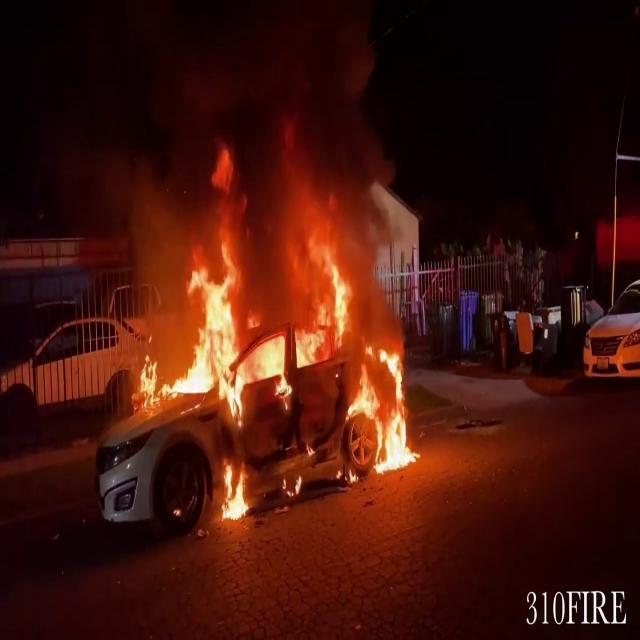Fire: (134, 215, 418, 500), (220, 458, 253, 524)
Smoke: (80, 0, 399, 277)
